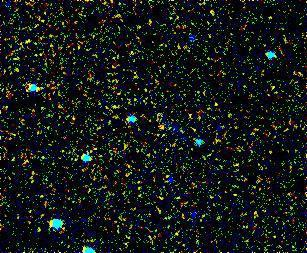star: (144, 111, 174, 141)
